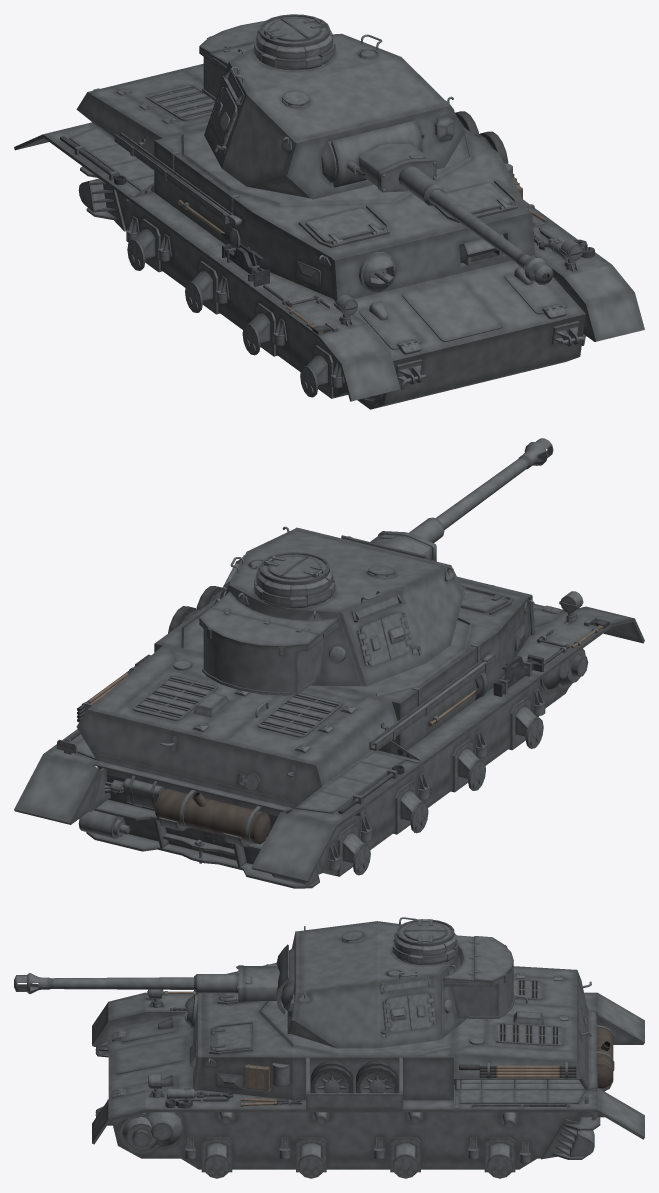
Rendered from Panzer_IV.fbx.
3 renders of one model, top to bottom at view 1: azimuth 30°, elevation 25°; view 2: azimuth 150°, elevation 25°; view 3: azimuth 270°, elevation 25°, orthographic. The views are drawn at different scales.
Visible parts, largest first — view 1: Panzer_IV_Body, Panzer_IV_Turret, Panzer_IV_Cannon, Panzer_IV_Barrel; view 2: Panzer_IV_Body, Panzer_IV_Turret, Panzer_IV_Barrel, Panzer_IV_Cannon; view 3: Panzer_IV_Body, Panzer_IV_Turret, Panzer_IV_Cannon, Panzer_IV_Barrel.
Boxes of the visible parts, x1,y1,x2,y2 form: Panzer_IV_Body: (14, 63, 644, 409); Panzer_IV_Turret: (199, 14, 465, 199); Panzer_IV_Cannon: (331, 120, 444, 205); Panzer_IV_Barrel: (429, 189, 553, 285); Panzer_IV_Body: (14, 536, 644, 888); Panzer_IV_Turret: (199, 526, 465, 695); Panzer_IV_Barrel: (435, 438, 553, 529); Panzer_IV_Cannon: (341, 517, 444, 561); Panzer_IV_Body: (92, 963, 644, 1178); Panzer_IV_Turret: (281, 917, 514, 1048); Panzer_IV_Cannon: (194, 944, 288, 1014); Panzer_IV_Barrel: (14, 973, 193, 993).
Size of what is drawn, in the model's own units: 294 by 238 by 669.
